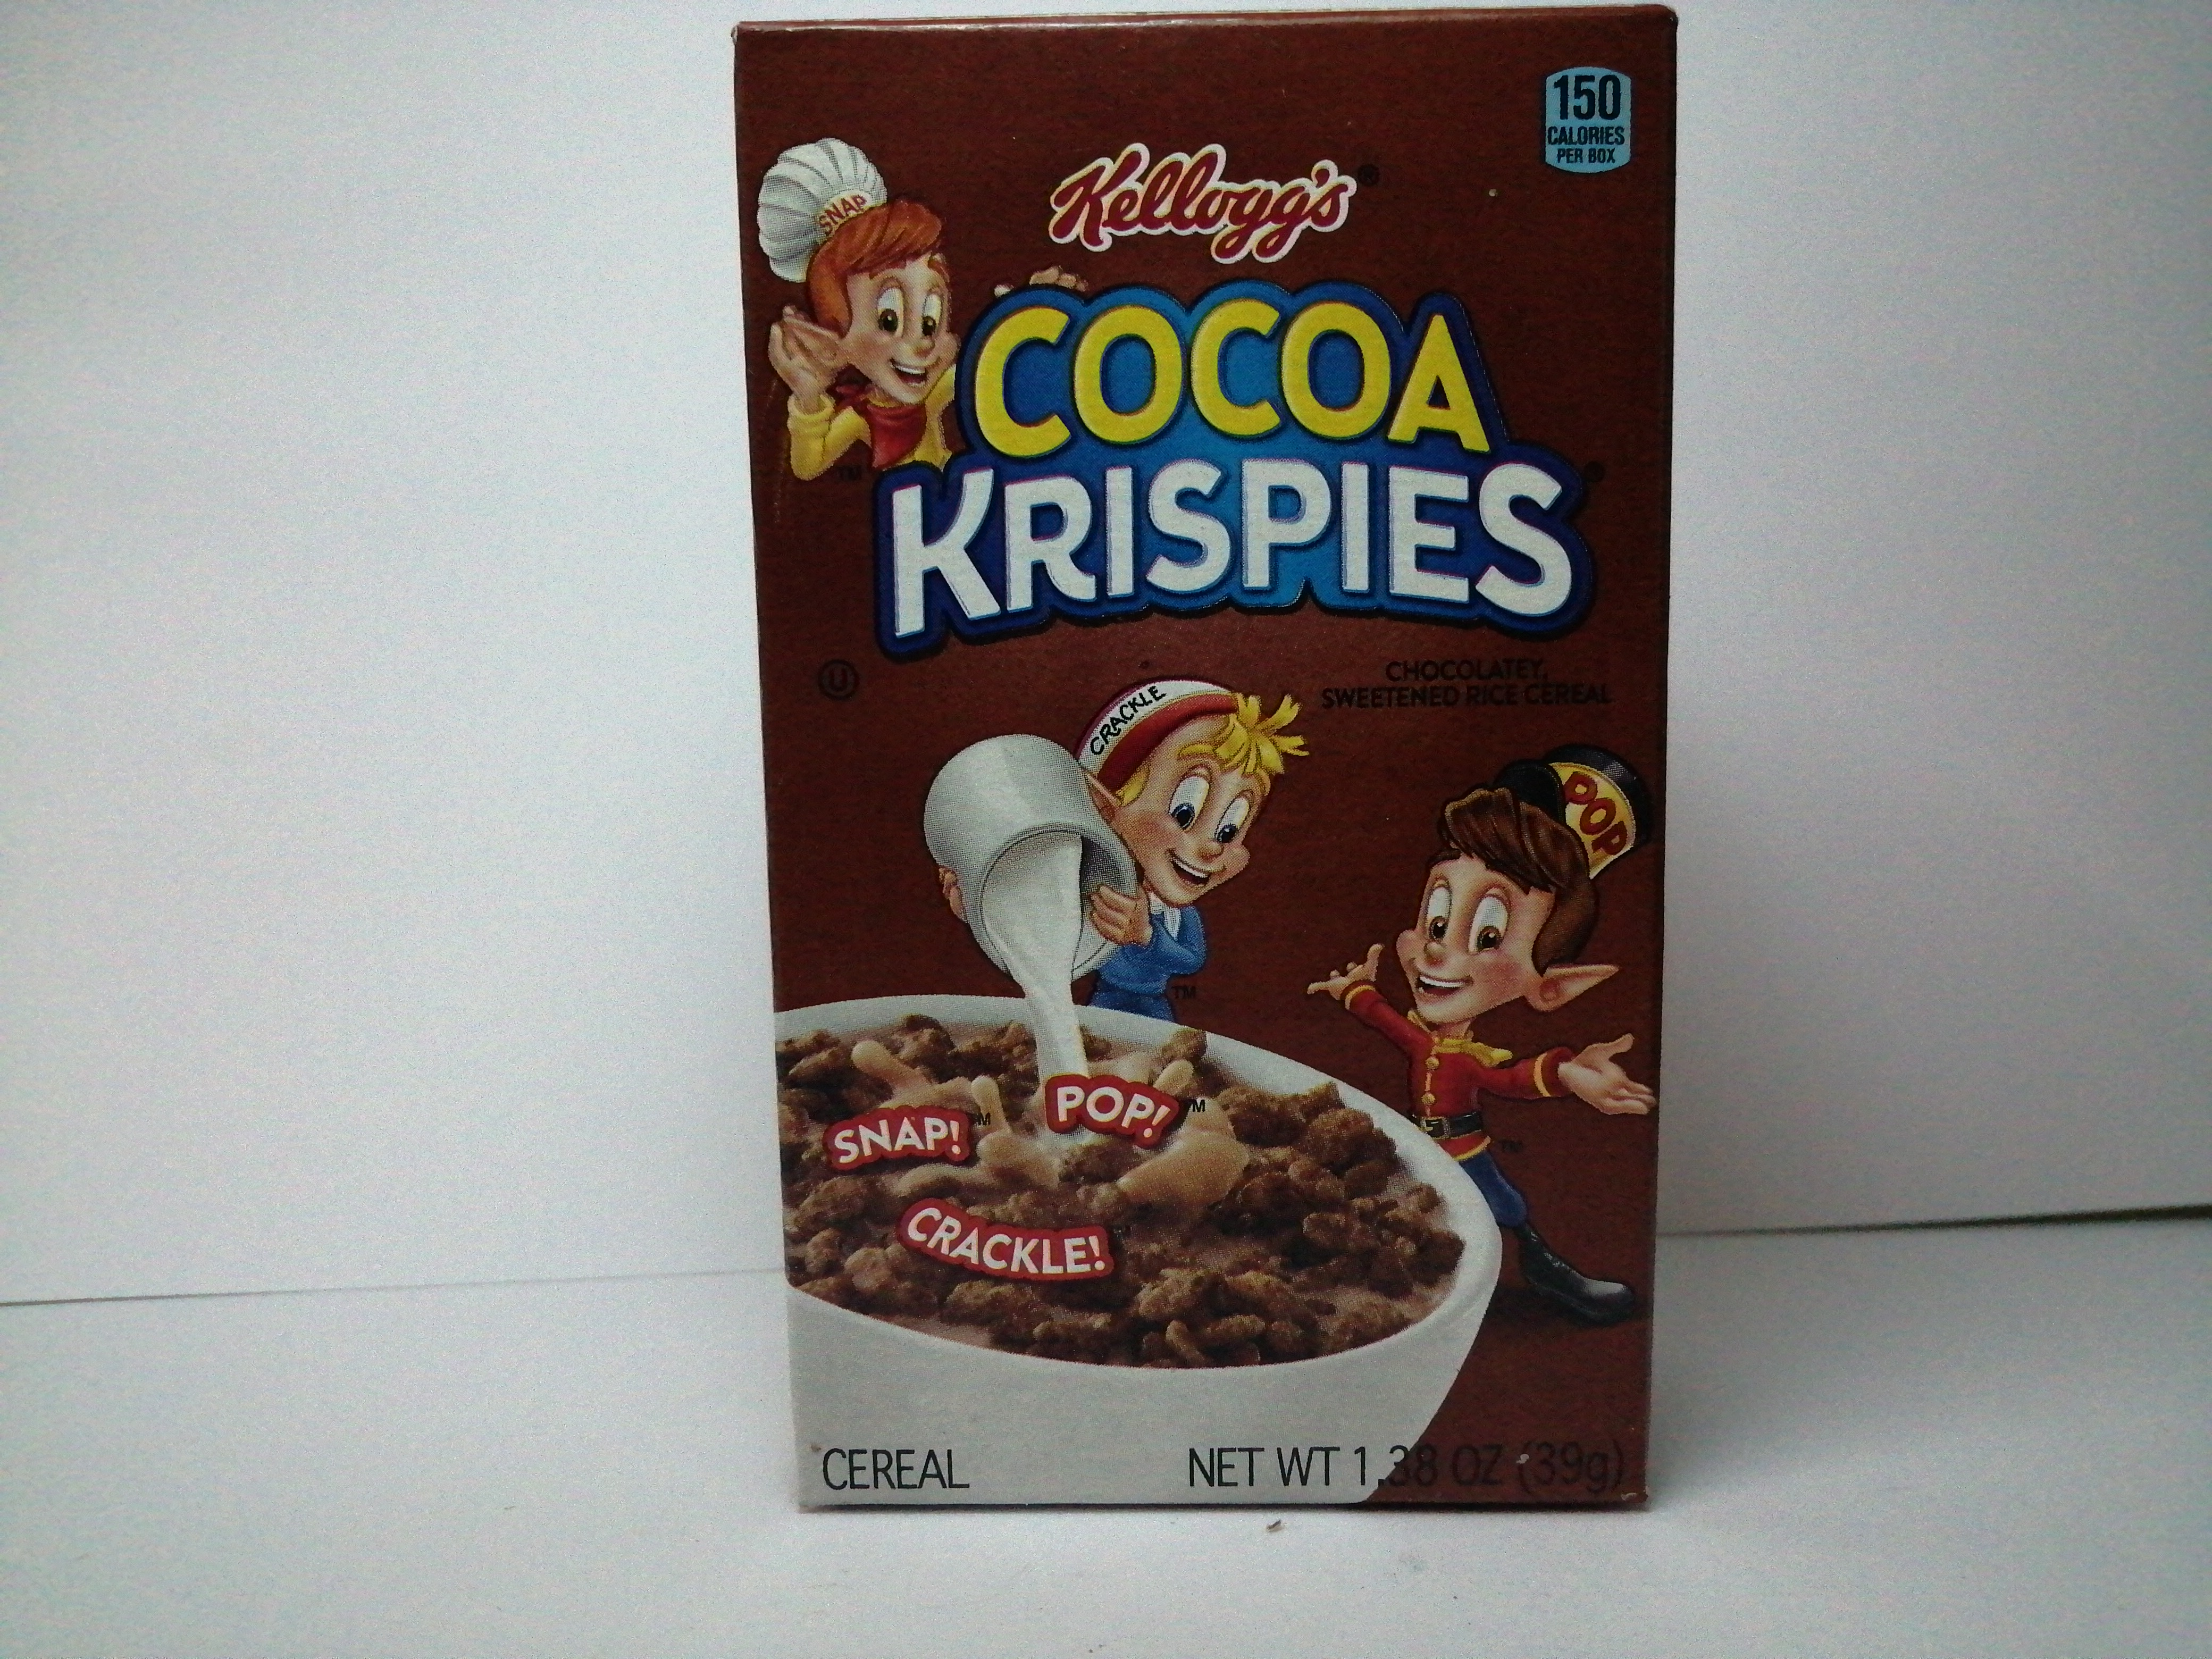cereal chocolate: (716, 9, 1689, 1542)
